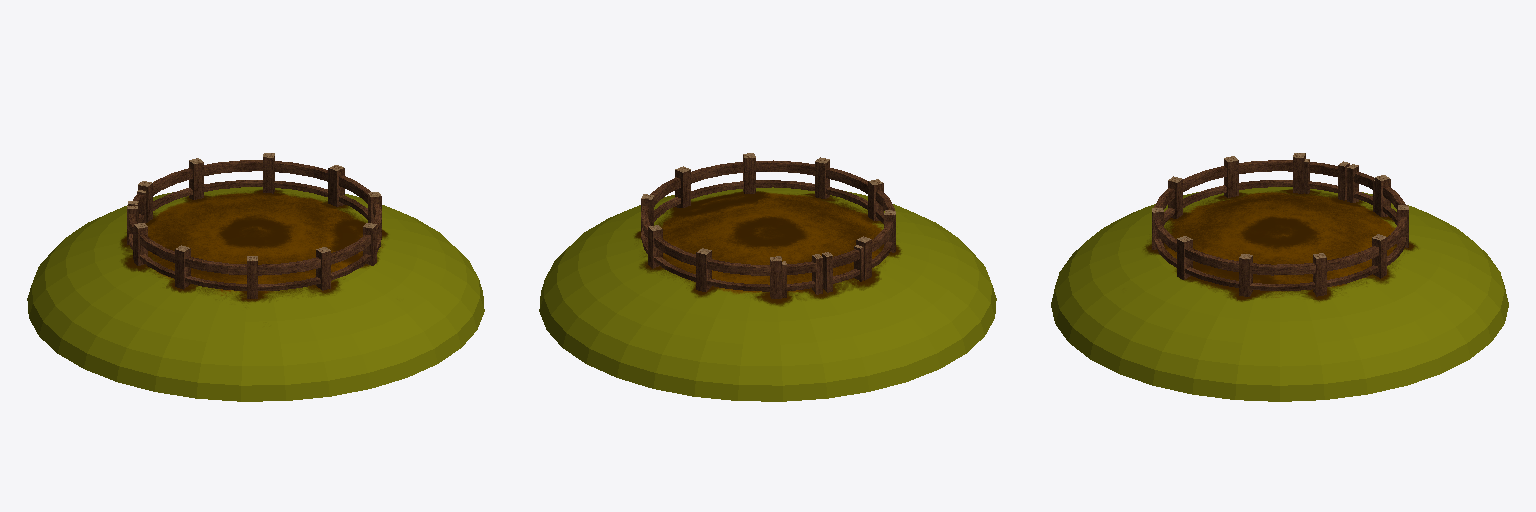
3 views of the same model, side by side, from view 1: azimuth 30°, elevation 25°; view 2: azimuth 150°, elevation 25°; view 3: azimuth 270°, elevation 25° (orthographic).
Visible parts, largest first — view 1: Grass_Grass_0; view 2: Grass_Grass_0; view 3: Grass_Grass_0.
Part boxes in pixels (left/top/right/bottom): Grass_Grass_0: left=27, top=153, right=484, bottom=401; Grass_Grass_0: left=539, top=153, right=996, bottom=401; Grass_Grass_0: left=1051, top=153, right=1508, bottom=401.
Size of the model in its own units: 121 by 28.62 by 121.
Materials: 1 (1 with a texture image).